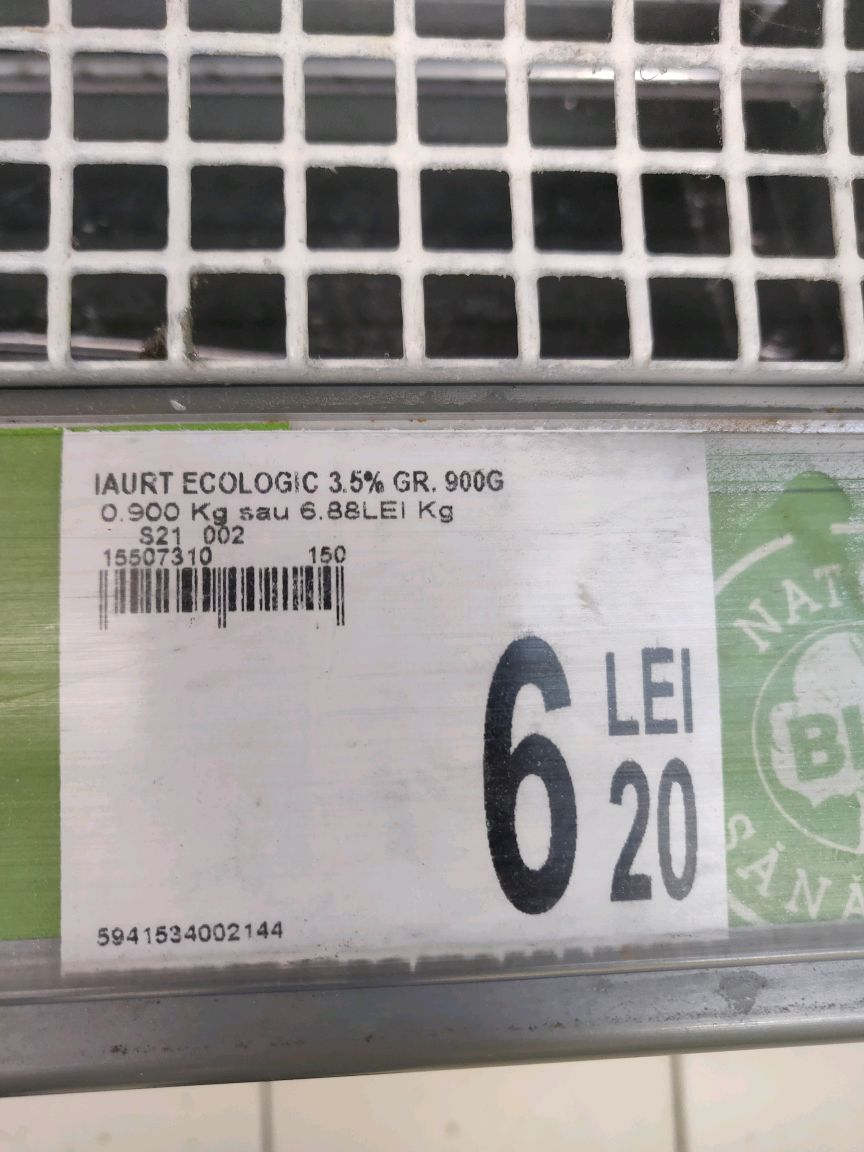price_bani: (597, 756, 706, 910)
price_lei: (466, 620, 588, 923)
price_tag: (50, 417, 749, 1000)
product_id: (92, 912, 291, 955)
product_name: (73, 457, 513, 497)
